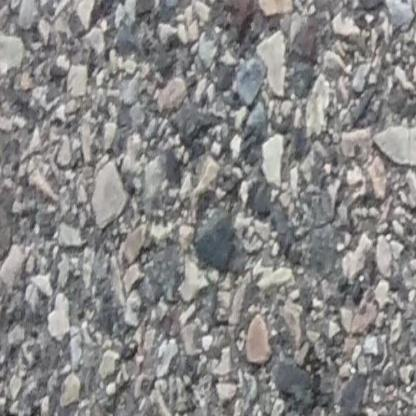Cracks: (0, 344, 57, 416), (194, 412, 212, 416)
